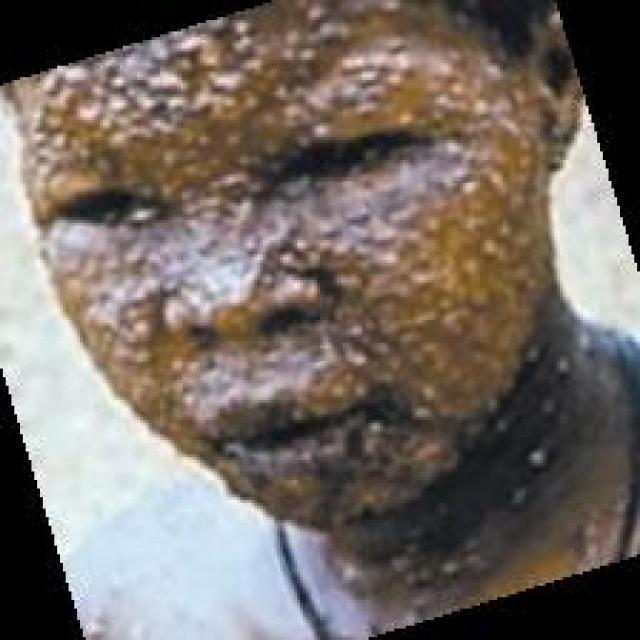monkeypox: (0, 35, 640, 584)
